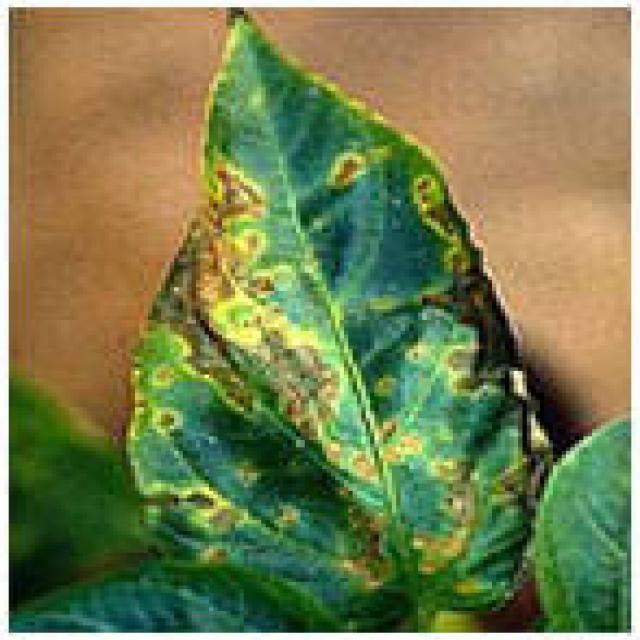bercak_daun: (109, 0, 553, 618)
